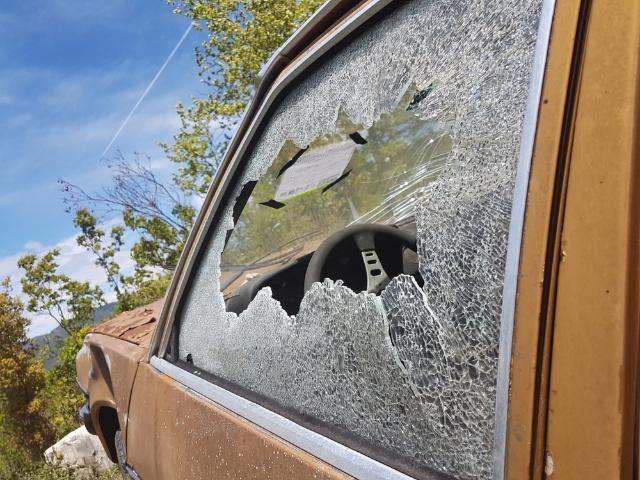glass shatter: (179, 0, 544, 480)
